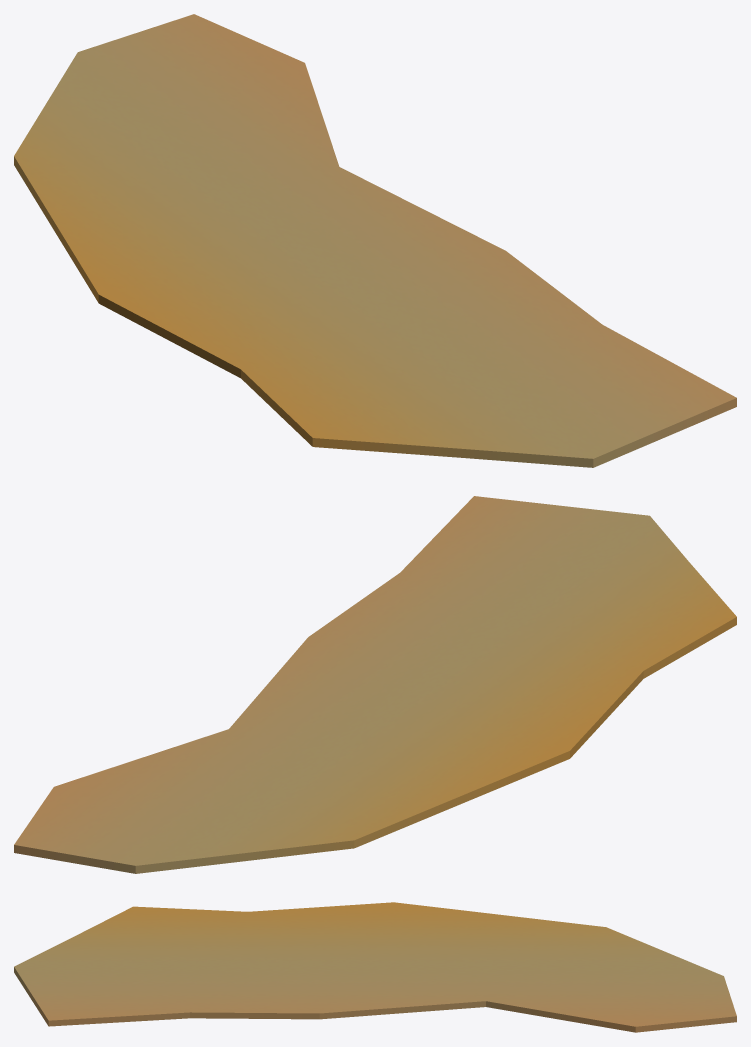
Rendered from Canyon_Ground_005.FBX.
3 views of the same model, one above another, from view 1: azimuth 30°, elevation 25°; view 2: azimuth 150°, elevation 25°; view 3: azimuth 270°, elevation 25° (orthographic). The views are drawn at different scales.
Visible parts, largest first — view 1: Canyon_Ground_005; view 2: Canyon_Ground_005; view 3: Canyon_Ground_005.
Part boxes in pixels (x1=…): Canyon_Ground_005: x1=14, y1=14, x2=736, y2=467; Canyon_Ground_005: x1=14, y1=496, x2=736, y2=873; Canyon_Ground_005: x1=14, y1=902, x2=736, y2=1032.
Bounding box in the file's own units: 909 × 20.07 × 2232.
1 material, 1 textured.
